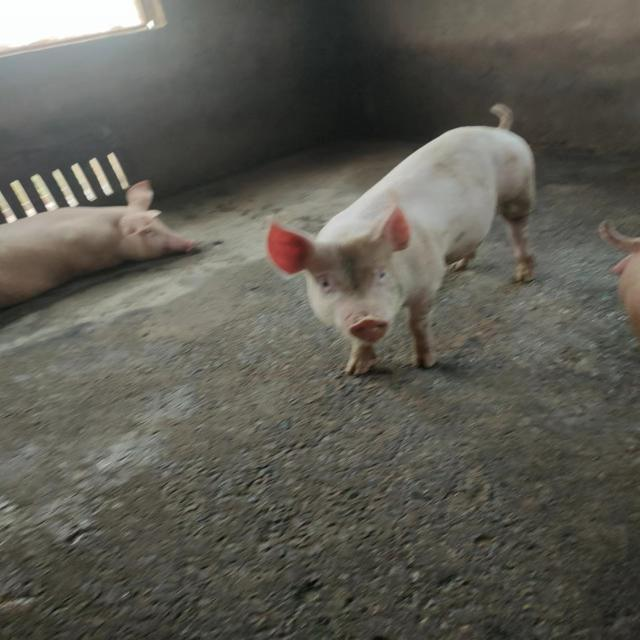pig: (268, 108, 535, 374), (0, 180, 194, 306)
